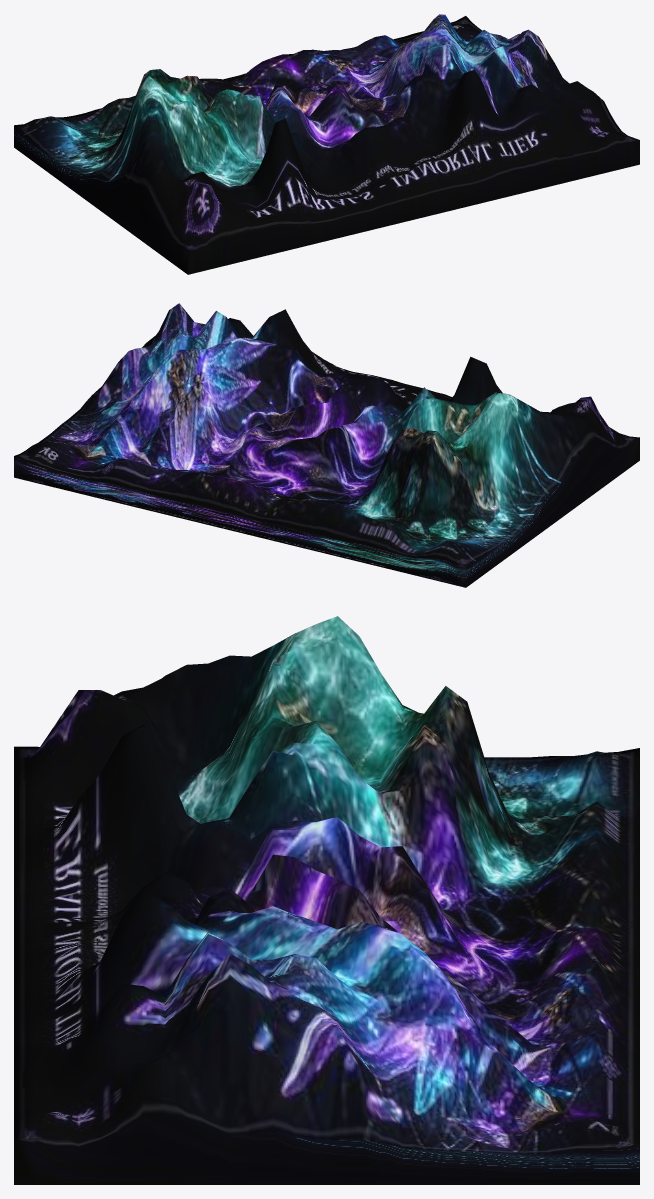
Rendered from MATERIAL_Immortal_Tier.glb.
3 views of the same model, one above another, from view 1: azimuth 30°, elevation 25°; view 2: azimuth 150°, elevation 25°; view 3: azimuth 270°, elevation 25° (orthographic). The views are drawn at different scales.
Visible parts, largest first — view 1: MATERIAL_Immortal_Tier; view 2: MATERIAL_Immortal_Tier; view 3: MATERIAL_Immortal_Tier.
Part boxes in pixels (x1,y1,x2,y2): MATERIAL_Immortal_Tier: (14,14,639,274); MATERIAL_Immortal_Tier: (14,303,639,587); MATERIAL_Immortal_Tier: (14,616,639,1184).
Bounding box in the file's own units: 2 × 0.51 × 1.33.
Materials: 1 (1 with a texture image).
